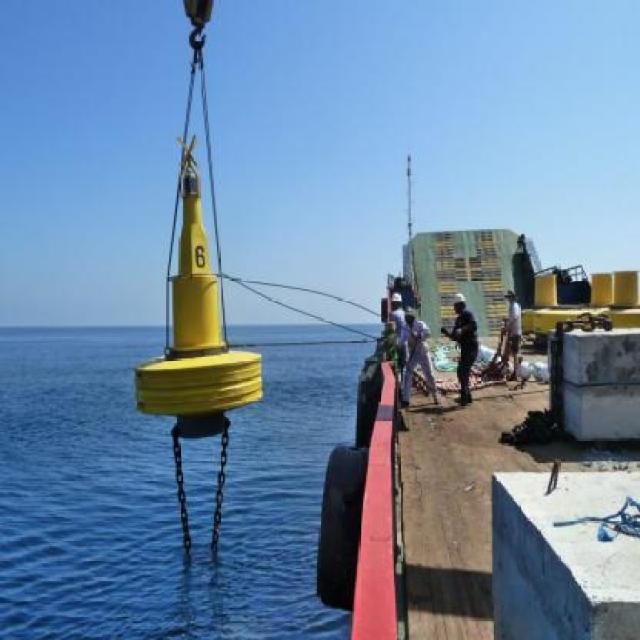a: (114, 126, 293, 440)
